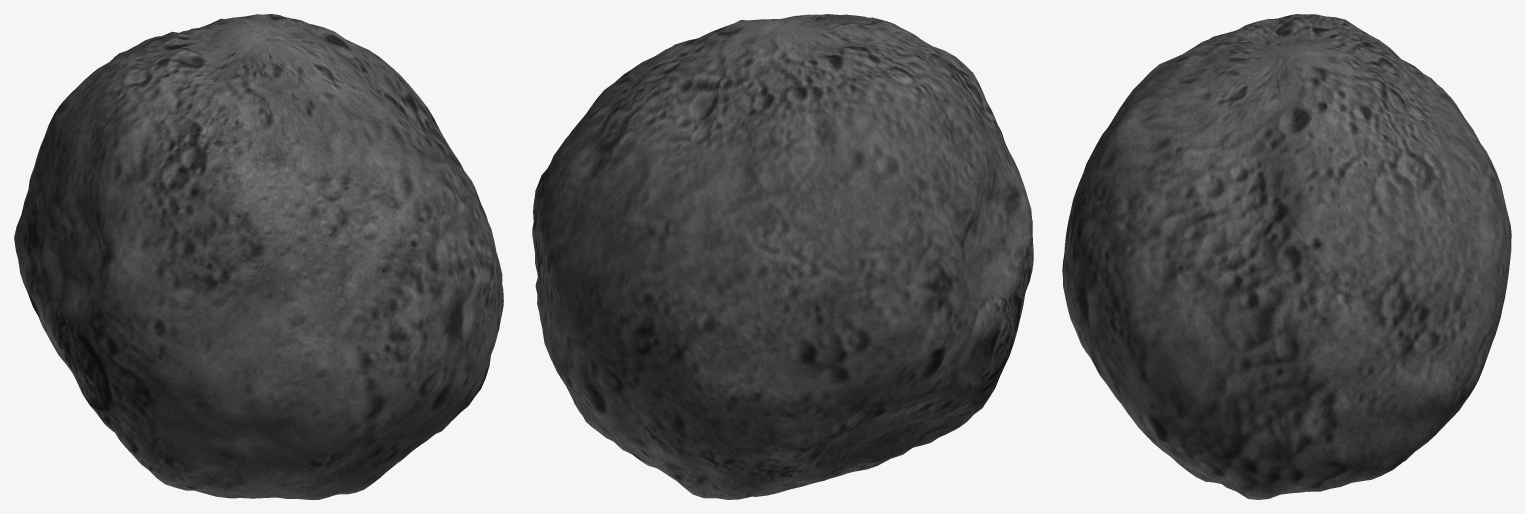
Rendered from ceres.glb.
3 renders of one model, left to right at view 1: azimuth 30°, elevation 25°; view 2: azimuth 150°, elevation 25°; view 3: azimuth 270°, elevation 25°, orthographic. The views are drawn at different scales.
Visible parts, largest first — view 1: ceres; view 2: ceres; view 3: ceres.
Boxes of the visible parts, box(x1,y1,x2,y2) form: ceres: box(14, 14, 503, 499); ceres: box(532, 14, 1033, 499); ceres: box(1062, 14, 1511, 499).
Bounding box in the file's own units: 211 × 212 × 208.
Materials: 1 (1 with a texture image).
